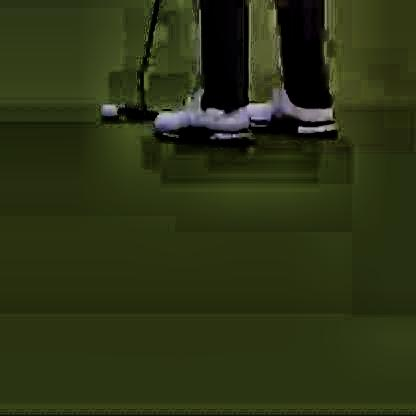golfball: (98, 102, 115, 120)
